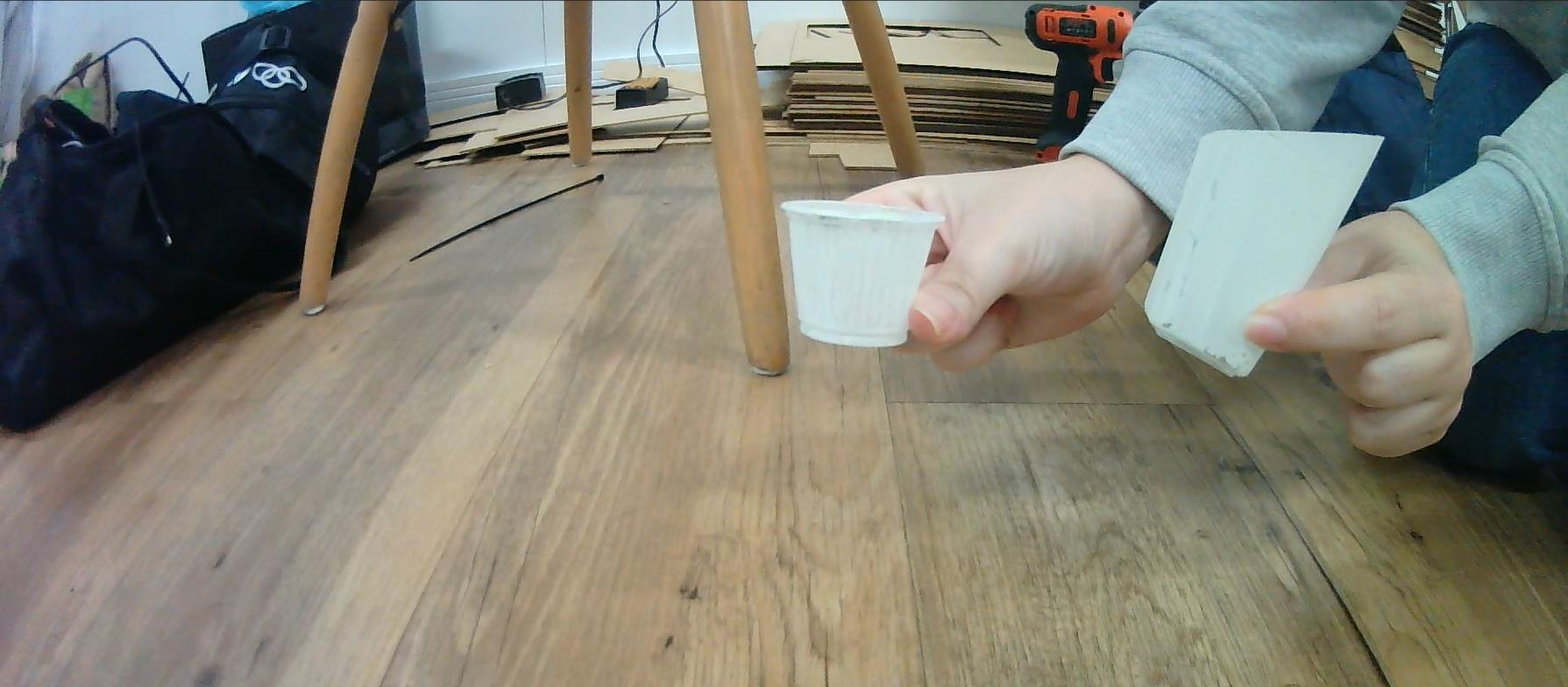erva_daninha: (1141, 130, 1385, 380)
planta: (780, 197, 947, 350)
